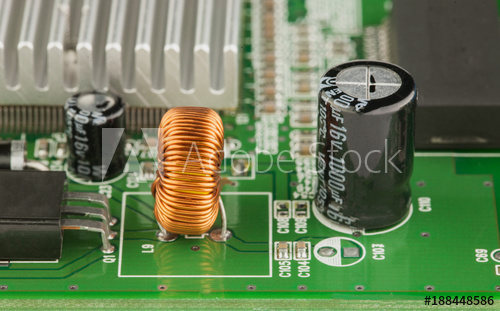capacitor: (315, 61, 418, 232), (66, 90, 128, 179)
